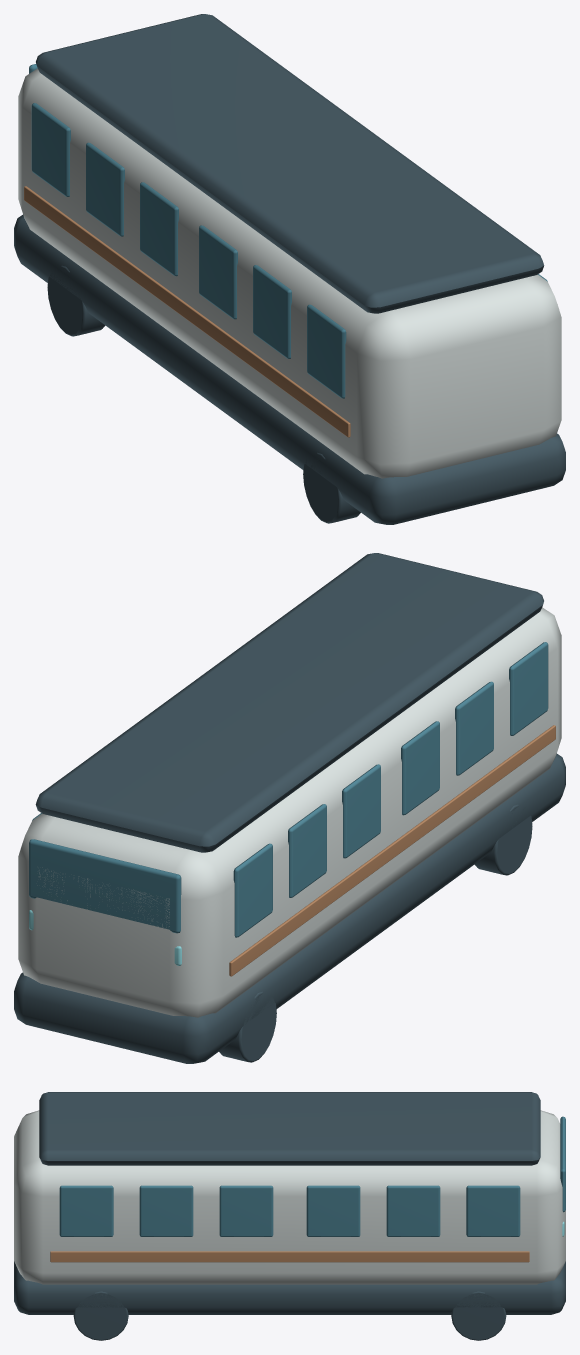
File: MetroCar112.fbx
The picture shows the model from 3 angles, top to bottom: view 1: azimuth 30°, elevation 25°; view 2: azimuth 150°, elevation 25°; view 3: azimuth 270°, elevation 25°; orthographic projection. The views are drawn at different scales.
Visible parts, largest first — view 1: Streamlined carriage, Continuous roof band, Rail vehicle underframe, Route identity stripe, Carriage glazing.005, Carriage glazing, Carriage glazing.002, Carriage glazing.003, Carriage glazing.004, Carriage glazing.001, Rail wheel.001, Rail wheel; view 2: Continuous roof band, Streamlined carriage, Rail vehicle underframe, Driver windshield, Route identity stripe, Carriage glazing, Carriage glazing.005, Carriage glazing.001, Carriage glazing.002, Carriage glazing.003, Carriage glazing.004, Rail wheel.001 (+1 smaller); view 3: Streamlined carriage, Continuous roof band, Rail vehicle underframe, Route identity stripe.001, Carriage glazing.007, Carriage glazing.008, Carriage glazing.009, Carriage glazing.010, Carriage glazing.006, Carriage glazing.011, Rail wheel.002, Rail wheel.003 (+1 smaller).
Boxes of the visible parts, x1,y1,x2,y2 form: Streamlined carriage: [18, 68, 561, 478]; Continuous roof band: [36, 14, 544, 313]; Rail vehicle underframe: [14, 214, 565, 524]; Route identity stripe: [24, 186, 350, 437]; Carriage glazing.005: [31, 103, 70, 196]; Carriage glazing: [307, 304, 346, 398]; Carriage glazing.002: [199, 225, 237, 319]; Carriage glazing.003: [140, 182, 178, 276]; Carriage glazing.004: [86, 142, 124, 236]; Carriage glazing.001: [253, 265, 291, 358]; Rail wheel.001: [47, 265, 105, 336]; Rail wheel: [303, 452, 360, 523]; Continuous roof band: [35, 553, 543, 852]; Streamlined carriage: [18, 607, 561, 1017]; Rail vehicle underframe: [14, 753, 565, 1063]; Driver windshield: [29, 839, 181, 933]; Route identity stripe: [229, 725, 555, 976]; Carriage glazing: [509, 642, 548, 735]; Carriage glazing.005: [233, 843, 272, 937]; Carriage glazing.001: [455, 681, 493, 775]; Carriage glazing.002: [401, 721, 439, 815]; Carriage glazing.003: [342, 764, 380, 858]; Carriage glazing.004: [288, 804, 326, 897]; Rail wheel.001: [219, 991, 276, 1062]; Streamlined carriage: [14, 1110, 565, 1284]; Continuous roof band: [39, 1092, 540, 1165]; Rail vehicle underframe: [14, 1261, 565, 1314]; Route identity stripe.001: [50, 1251, 529, 1262]; Carriage glazing.007: [139, 1185, 193, 1236]; Carriage glazing.008: [219, 1185, 273, 1236]; Carriage glazing.009: [306, 1185, 360, 1236]; Carriage glazing.010: [386, 1185, 440, 1236]; Carriage glazing.006: [59, 1185, 113, 1236]; Carriage glazing.011: [466, 1185, 520, 1236]; Rail wheel.002: [73, 1291, 128, 1340]; Rail wheel.003: [451, 1291, 506, 1340].
Size of the model in its own units: 122 by 141 by 380.
